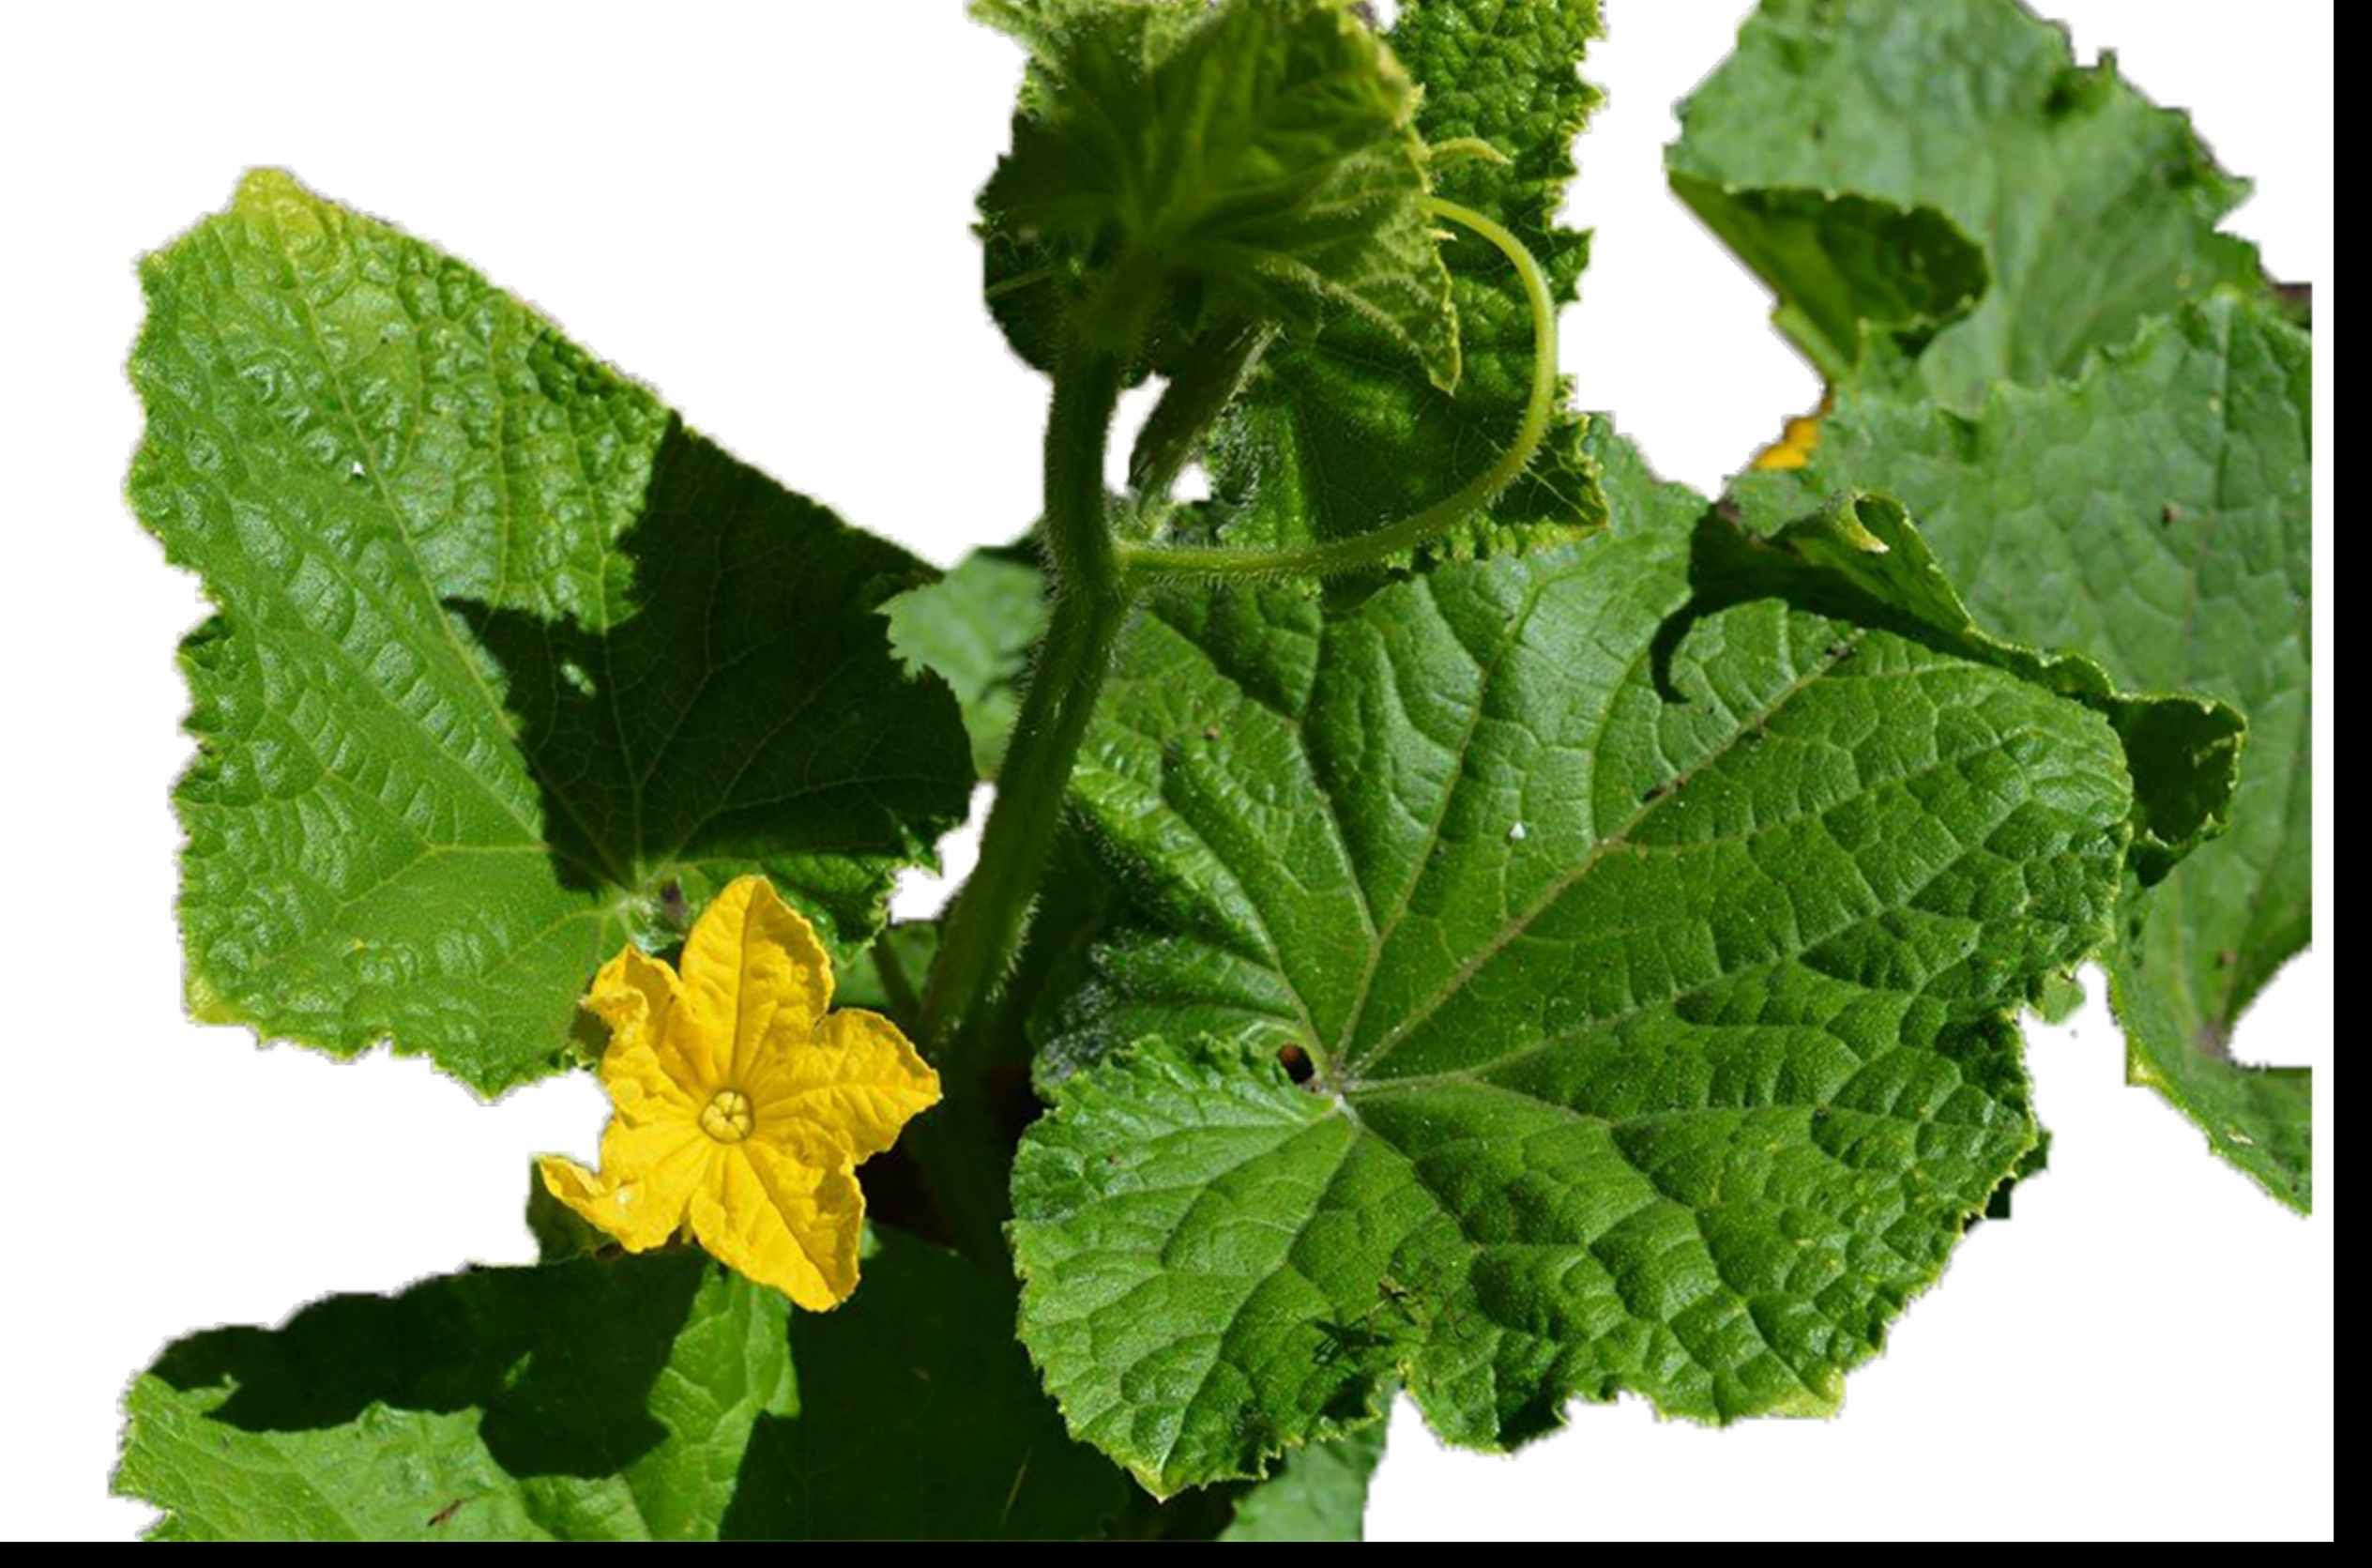cucumber_plant: (119, 159, 2155, 1542)
